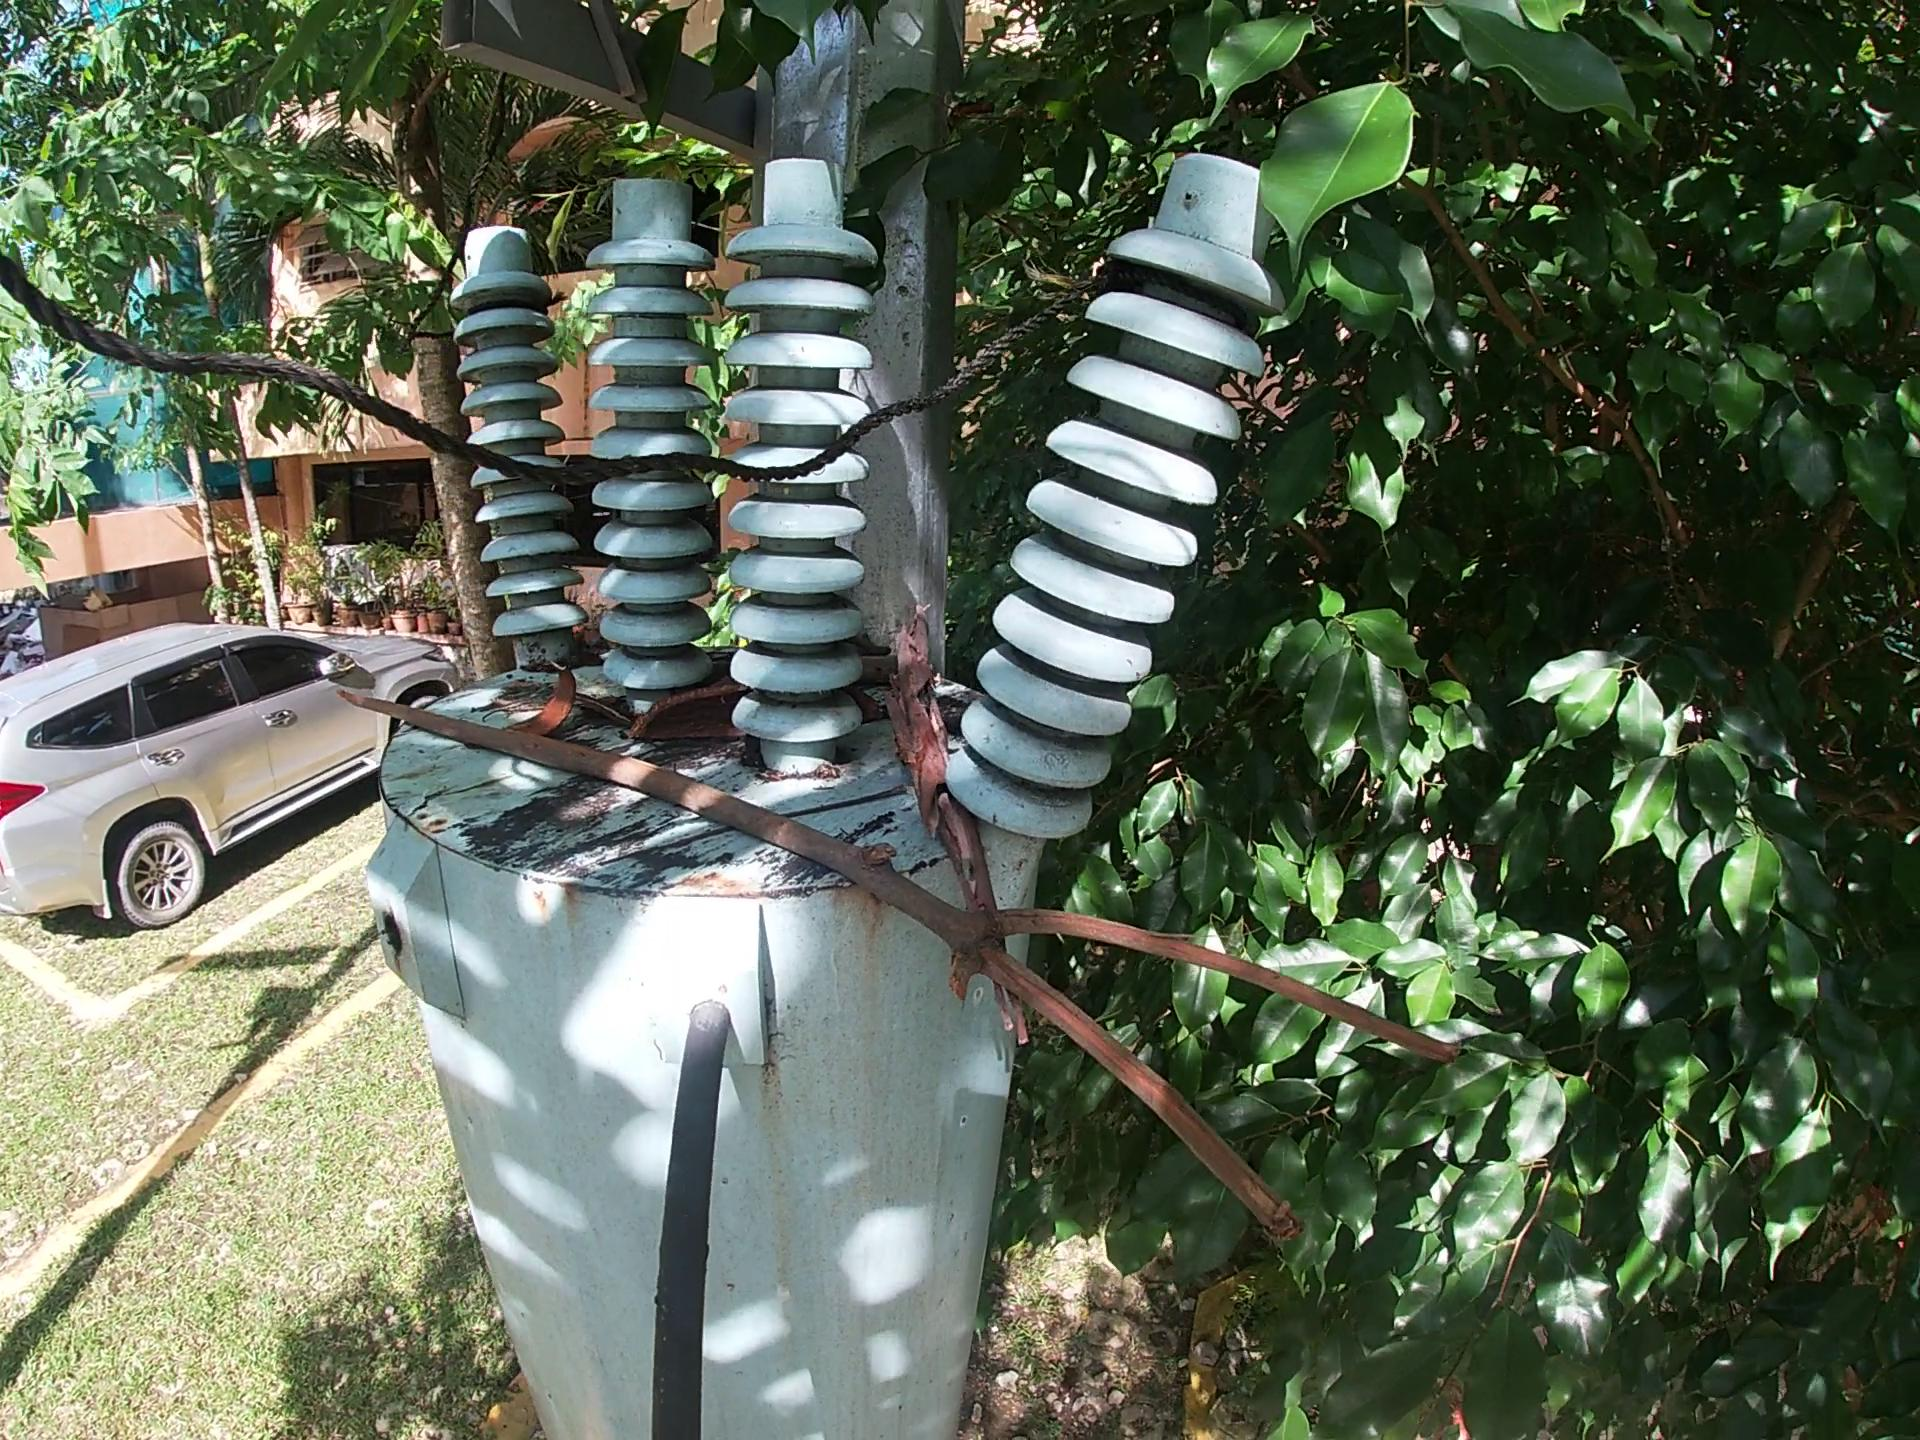mahogany fruit: (621, 675, 881, 752), (506, 663, 587, 740)
tree branch: (324, 675, 1473, 1249), (878, 602, 1040, 1051)
